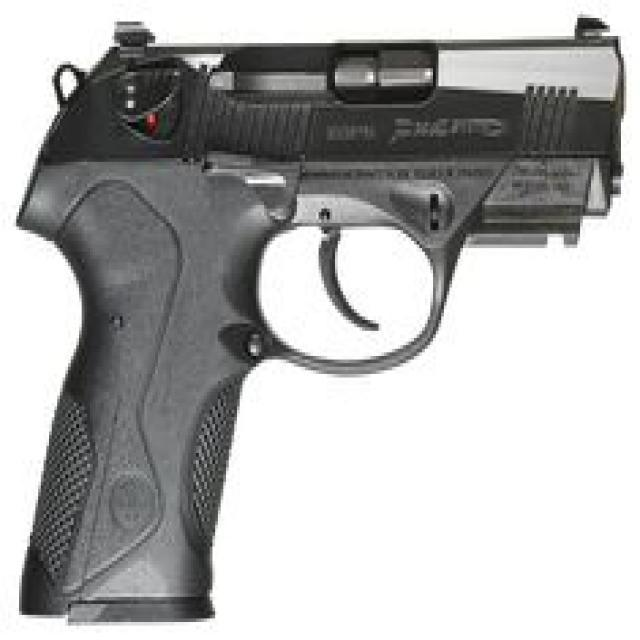semi automatic: (11, 14, 632, 624)
